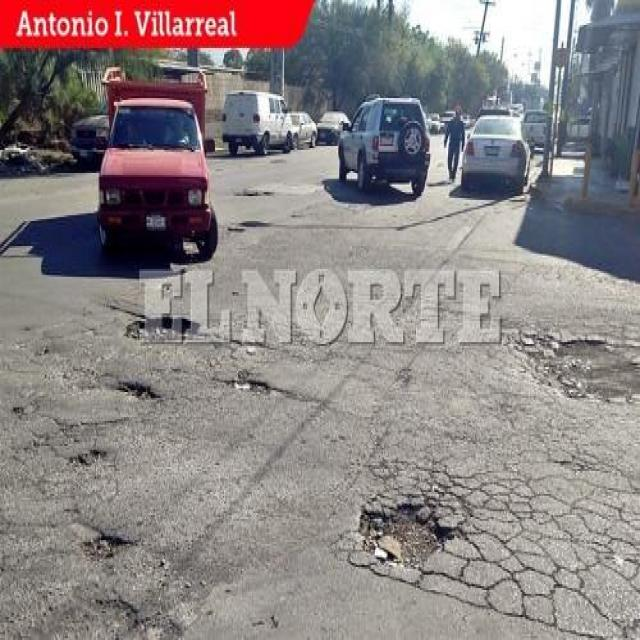Pothole: (92, 308, 307, 452), (47, 484, 242, 640), (324, 440, 461, 602), (500, 313, 640, 440), (232, 177, 310, 250)
